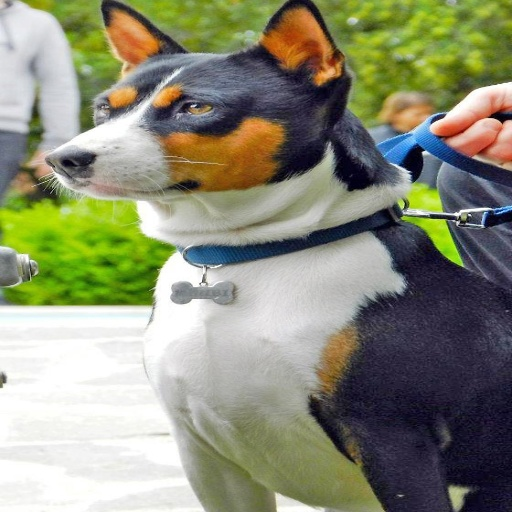hand: (419, 78, 510, 157), (23, 149, 54, 179)
